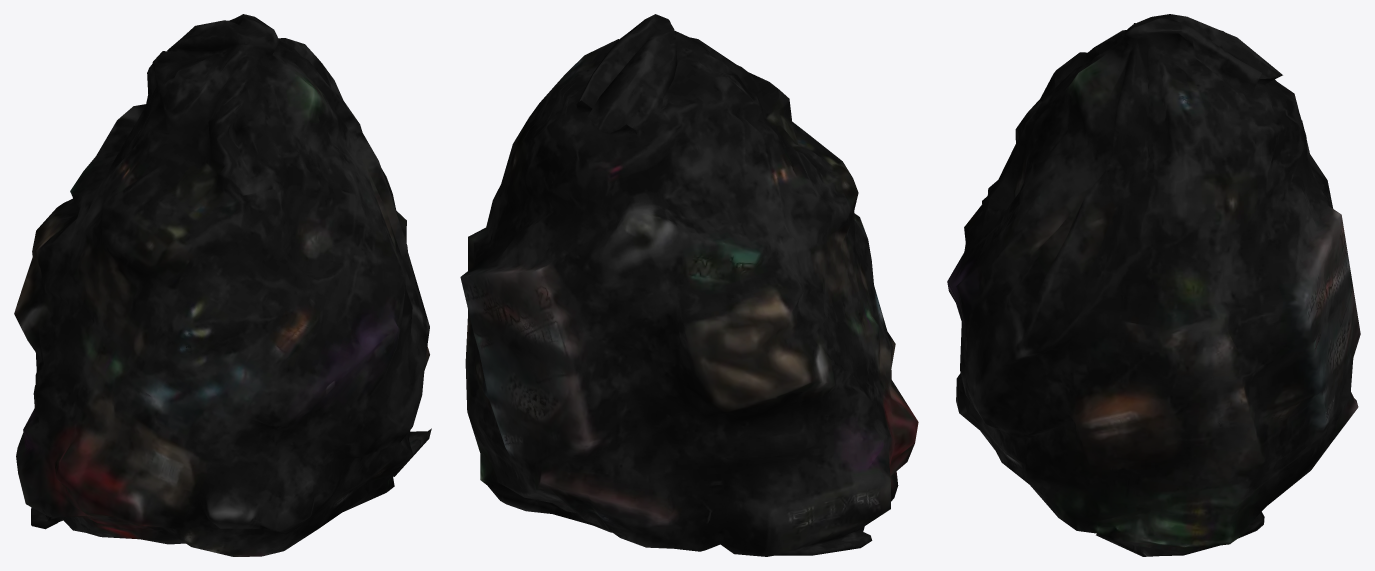
Rendered from trashbag.lite.glb.
The picture shows the model from 3 angles, left to right: view 1: azimuth 30°, elevation 25°; view 2: azimuth 150°, elevation 25°; view 3: azimuth 270°, elevation 25°; orthographic projection. The views are drawn at different scales.
Parts seen in each view (by area): view 1: trashbag; view 2: trashbag; view 3: trashbag.
Part boxes in pixels (left/top/right/bottom): trashbag: left=14, top=14, right=431, bottom=556; trashbag: left=460, top=14, right=918, bottom=556; trashbag: left=947, top=14, right=1360, bottom=556.
Bounding box in the file's own units: 0.5281 × 0.575 × 0.4629.
1 material, 1 textured.
